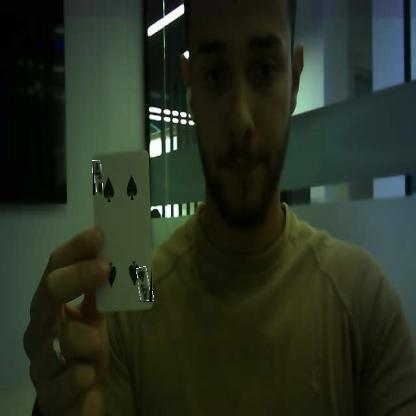4S: (138, 267, 152, 302), (93, 160, 102, 195)
